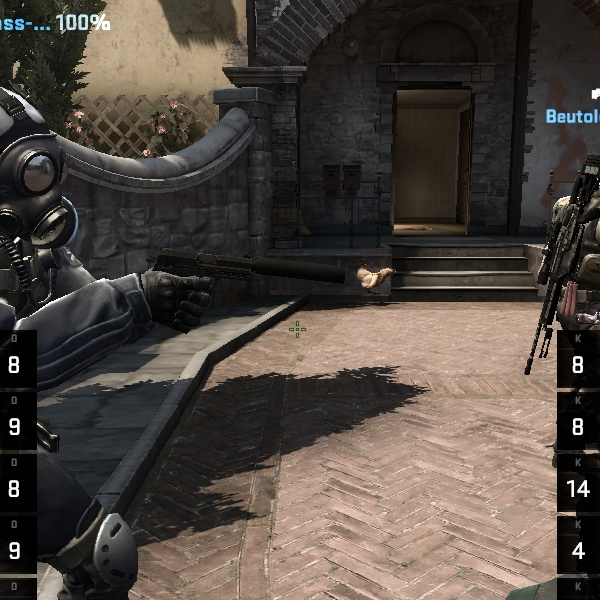ct_head: (570, 152, 599, 227)
